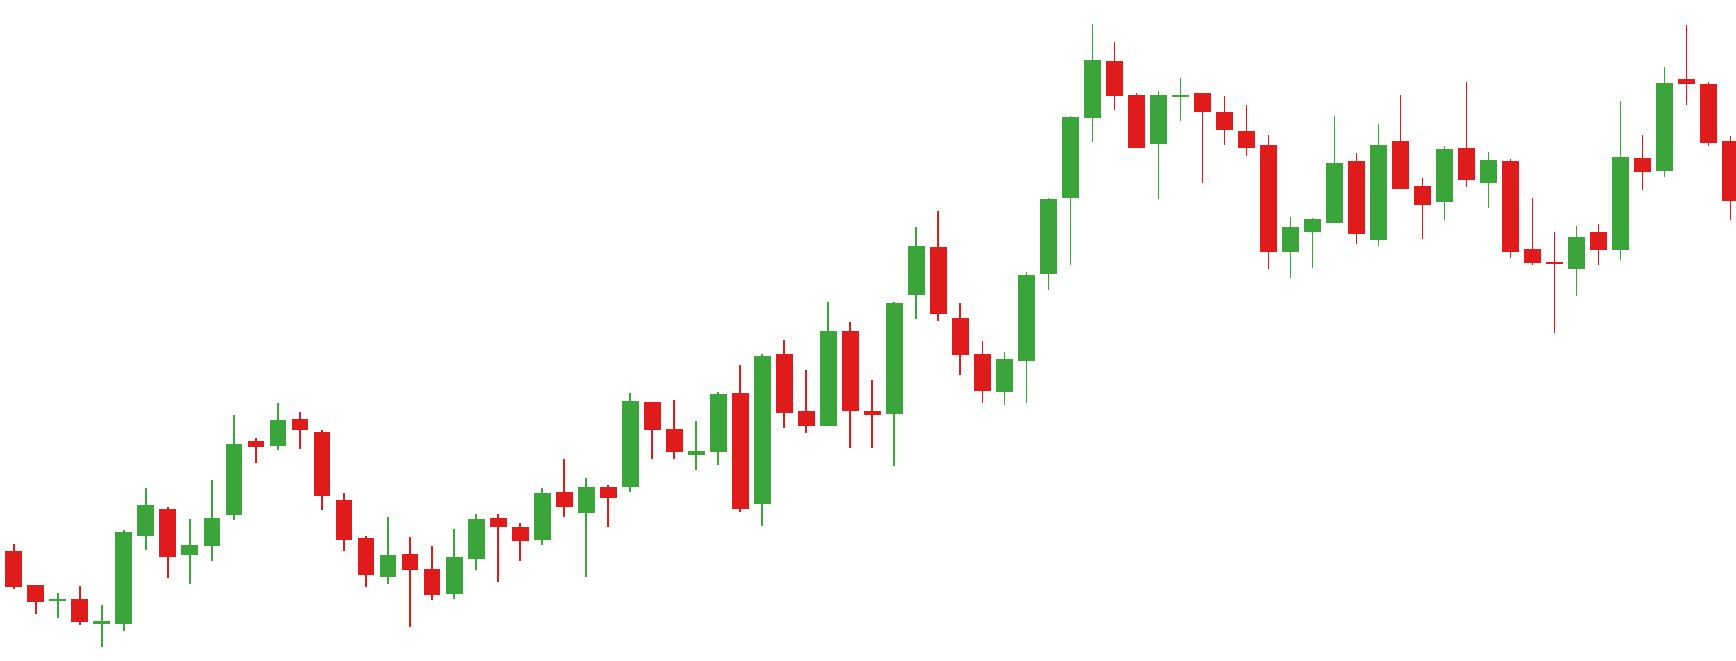buy: (153, 455, 417, 632)
